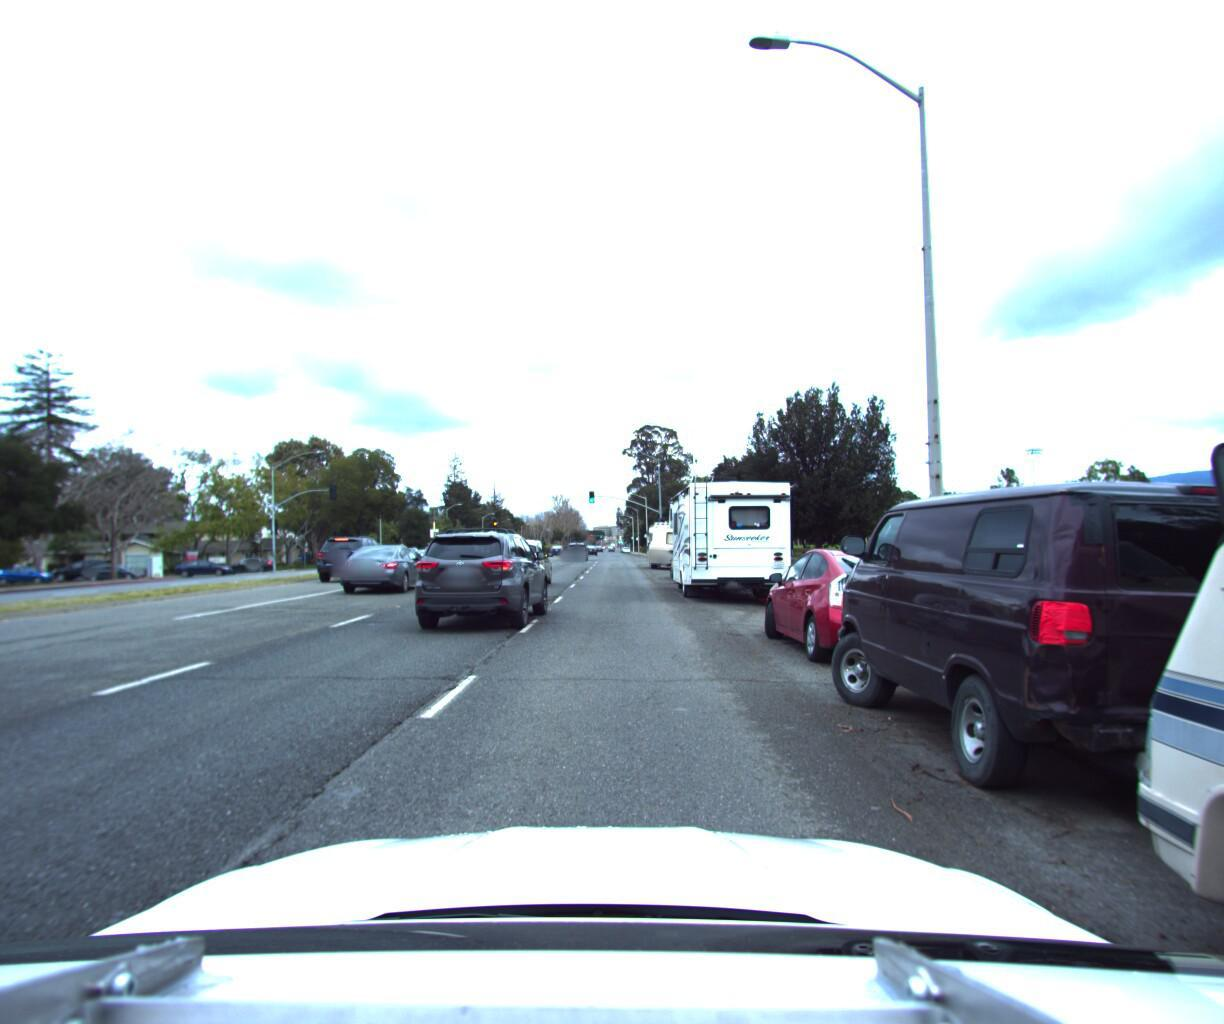car: (818, 431, 1224, 814), (755, 537, 971, 667), (406, 527, 552, 638), (336, 546, 433, 602), (317, 537, 400, 587), (494, 543, 559, 594), (0, 571, 66, 591), (176, 565, 240, 585), (85, 571, 155, 588), (224, 561, 280, 580), (565, 548, 589, 566)
other_vehicle: (664, 472, 800, 605), (646, 523, 696, 575)
